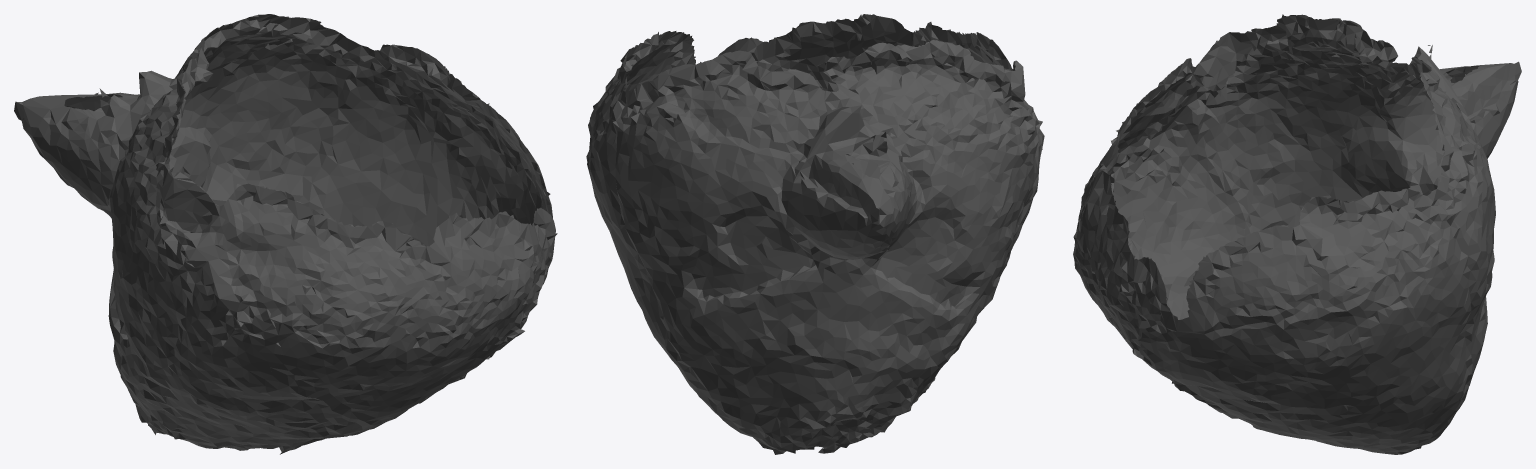
3 renders of one model, left to right at view 1: azimuth 30°, elevation 25°; view 2: azimuth 150°, elevation 25°; view 3: azimuth 270°, elevation 25°, orthographic. The views are drawn at different scales.
Bounding box in the file's own units: 2.02 × 2.01 × 2.08.
